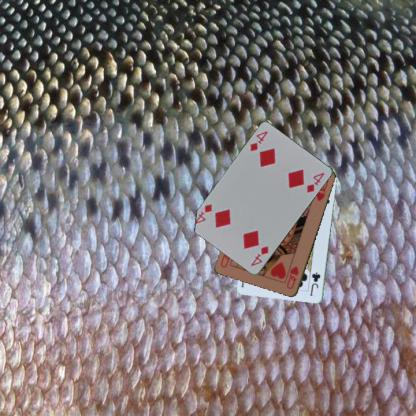4d: (246, 128, 269, 153), (248, 242, 270, 268)
Jc: (307, 270, 322, 297)
Qh: (284, 263, 300, 290)
